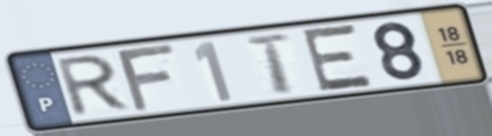1: (191, 39, 234, 104)
8: (372, 20, 429, 83)
E: (300, 21, 377, 94)
F: (114, 41, 179, 115)
R: (54, 52, 134, 120)
T: (242, 32, 298, 97)
